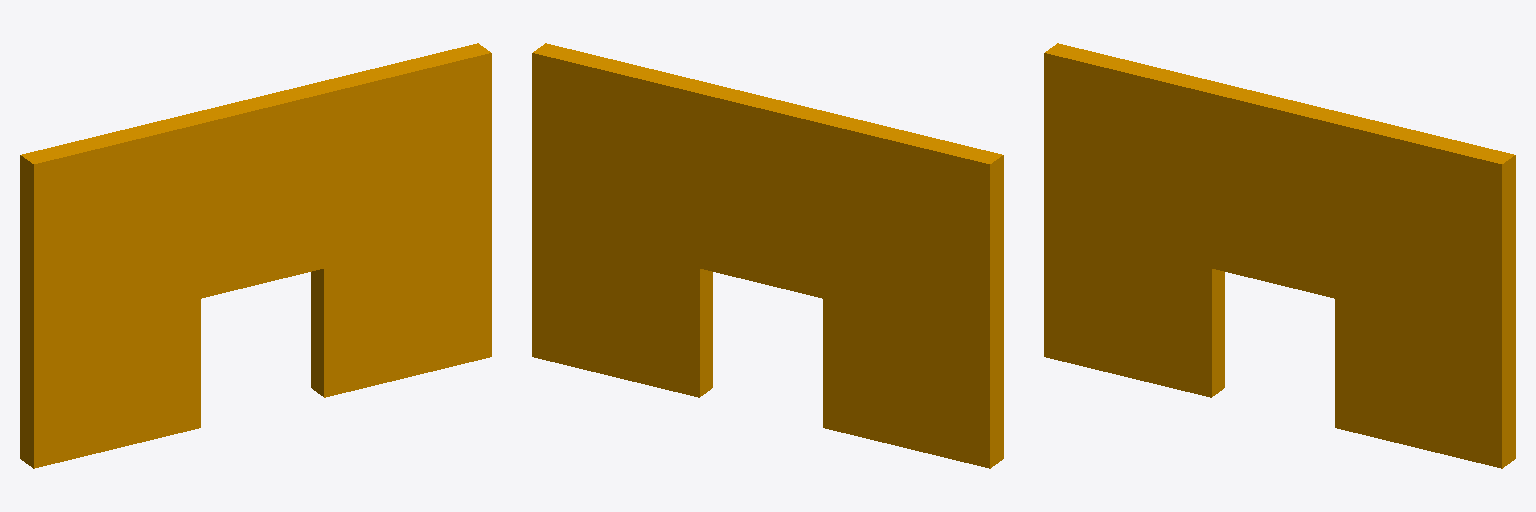
robot.urdf — gate_0_54:
<?xml version="1.0" encoding="UTF-8"?>
<robot name="gate_0_54">
	<link name="base">
		<collision>
			<geometry>
				<mesh filename="../vhacd/gate_0_54_vhacd.obj" scale="1.0 1.0 1.0"/>
			</geometry>
			<origin xyz="0 0 0"/>
			<contact_coefficients mu="0.24" />
		</collision>
		<visual>
			<geometry>
				<mesh filename="../vhacd/gate_0_54_vhacd.obj" scale="1.0 1.0 1.0"/>
			</geometry>
			<origin xyz="0 0 0"/>
		</visual>
		<inertial>
			<mass value="0"/>
			<inertia ixx="0.0" ixy="0.0" ixz="-0.0" iyy="0.0" iyz="-0.0" izz="0.0" />
			<origin xyz="1.0 0.05000000074505807 0.682337649323009"/>
		</inertial>
	</link>
</robot>

--- What the picture shows (computed from the rendered views, not written in the file) ---
The picture shows the robot from 3 angles, left to right: view 1: azimuth 30°, elevation 25°; view 2: azimuth 150°, elevation 25°; view 3: azimuth 330°, elevation 25°; orthographic projection.
Robot: gate_0_54 — 1 links, 0 joints (none); root link base; default pose: all joints at 0.
Visible links, largest first — view 1: base; view 2: base; view 3: base.
Link boxes in pixels (box(x1,y1,x2,y2)): base: box(20, 43, 491, 468); base: box(532, 43, 1003, 468); base: box(1044, 43, 1515, 468).
Size in the robot's own frame: 2 by 0.1 by 1.27 metres.
1 mesh visuals loaded from 1 distinct referenced files (1 OBJ).